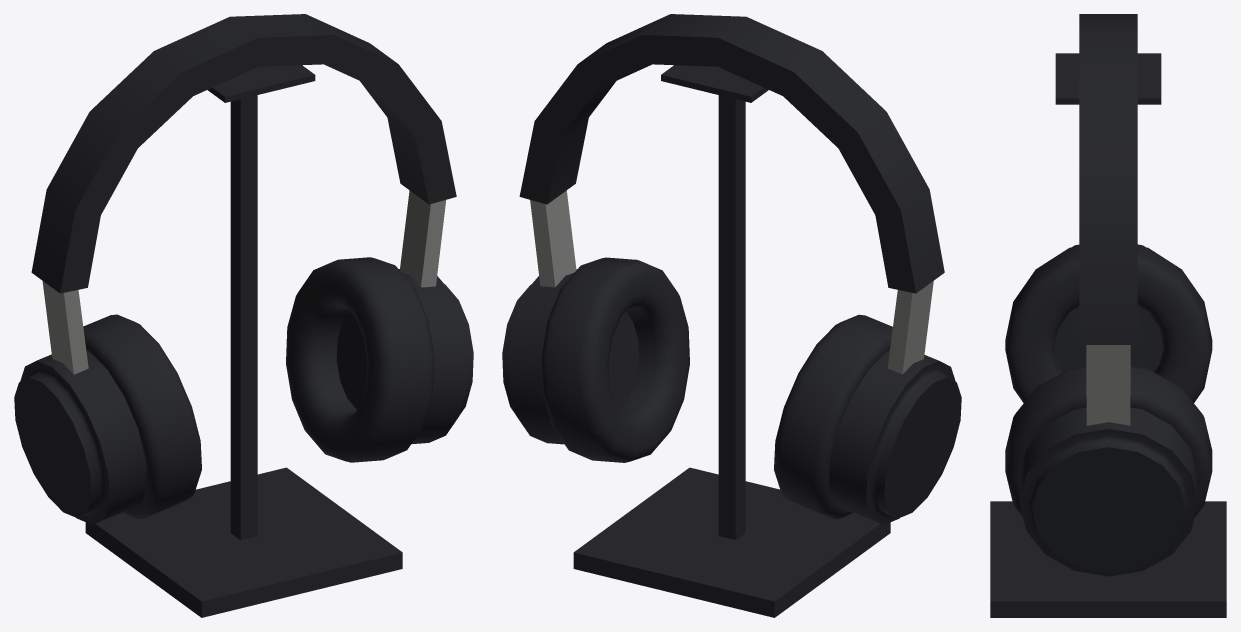
The model's file is Shelves_Assets_Electronic_Headphone_1.fbx.
3 views of the same model, side by side, from view 1: azimuth 30°, elevation 25°; view 2: azimuth 150°, elevation 25°; view 3: azimuth 270°, elevation 25° (orthographic).
Parts seen in each view (by area): view 1: Shelves_Assets_Electronic_Headphone_1; view 2: Shelves_Assets_Electronic_Headphone_1; view 3: Shelves_Assets_Electronic_Headphone_1.
Boxes of the visible parts, x1,y1,x2,y2 form: Shelves_Assets_Electronic_Headphone_1: (14, 14, 473, 617); Shelves_Assets_Electronic_Headphone_1: (502, 14, 961, 617); Shelves_Assets_Electronic_Headphone_1: (990, 14, 1226, 617).
Bounding box in the file's own units: 19.73 × 24.52 × 9.85.
